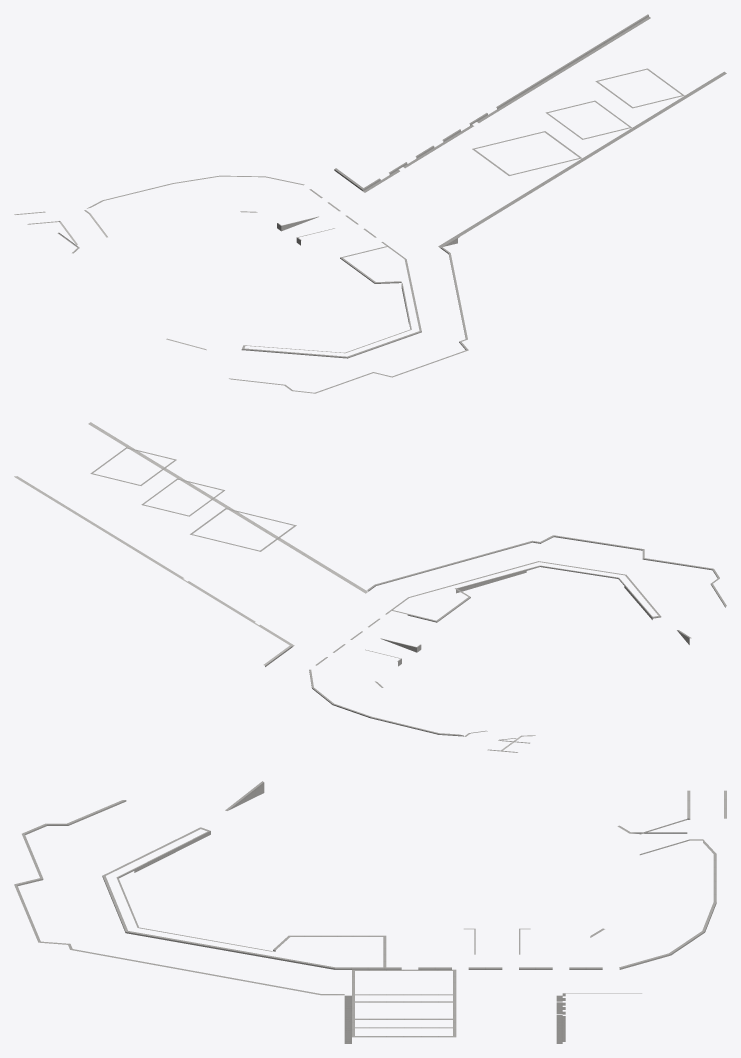
The model's file is kd_stage_13612f_3_7.glb.
3 views of the same model, one above another, from view 1: azimuth 30°, elevation 25°; view 2: azimuth 150°, elevation 25°; view 3: azimuth 270°, elevation 25° (orthographic). The views are drawn at different scales.
Parts seen in each view (by area): view 1: kd_stage_13612f_3_7; view 2: kd_stage_13612f_3_7; view 3: kd_stage_13612f_3_7.
Boxes of the visible parts, left/top/right/bottom form: kd_stage_13612f_3_7: left=14, top=14, right=726, bottom=393; kd_stage_13612f_3_7: left=14, top=422, right=726, bottom=752; kd_stage_13612f_3_7: left=14, top=781, right=726, bottom=1043.
Size of the model in its own units: 64.07 by 12.15 by 47.91.
Materials: 1 (1 with a texture image).
